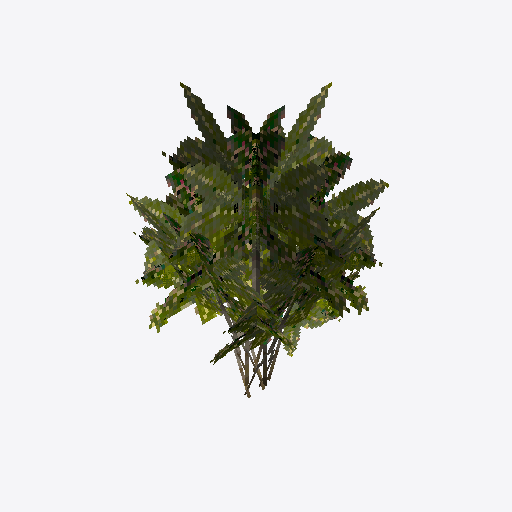
A Minecraft block model of 7 cuboids, rendered isometrically (azimuth 45°, elevation 35.3°) with the resource pack's own textures.
Visible parts, largest first — element 7, element 6, element 2, element 4, element 3, element 1, element 5.
Boxes of the visible parts, x1=… form: element 7: x1=162, y1=82, x2=349, y2=385; element 6: x1=162, y1=82, x2=349, y2=385; element 2: x1=210, y1=207, x2=379, y2=394; element 4: x1=126, y1=193, x2=296, y2=380; element 3: x1=242, y1=126, x2=388, y2=380; element 1: x1=129, y1=168, x2=264, y2=397; element 5: x1=216, y1=282, x2=365, y2=356.
Bounding box in the file's own units: 20 × 20.76 × 20.